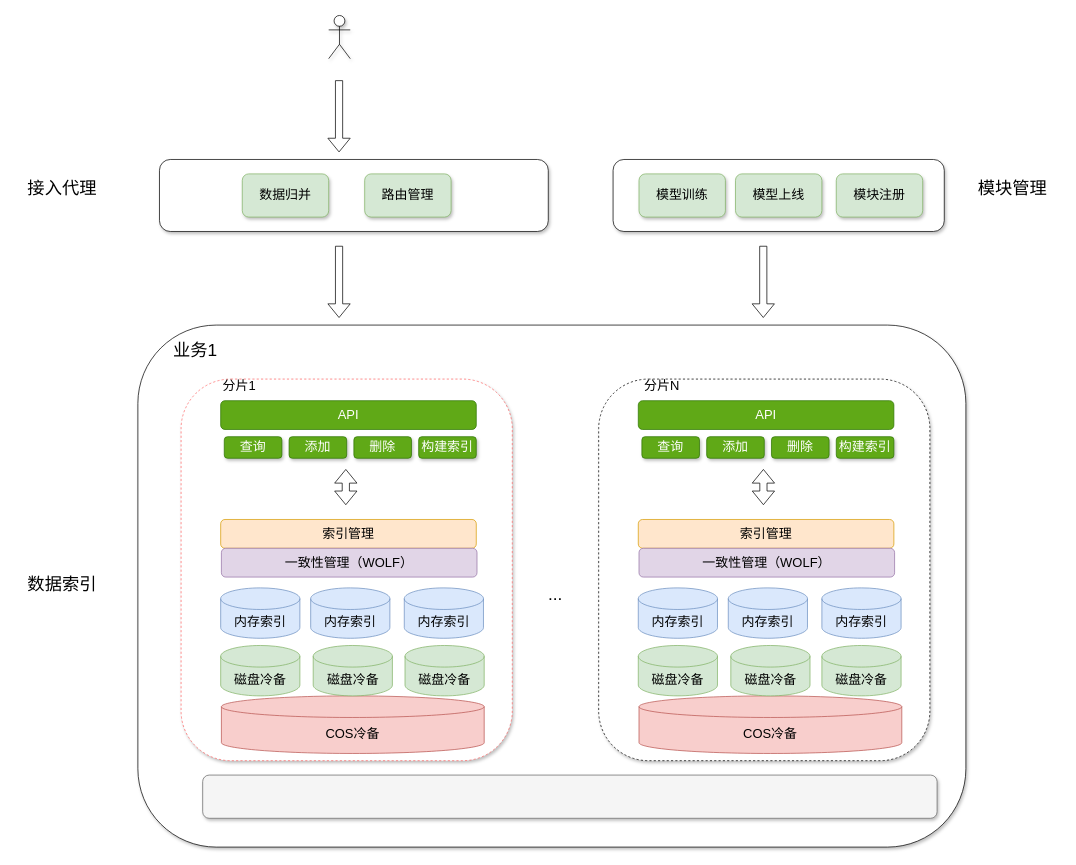
This 1076x865 diagram has some shape labels left out. The centre of each missing label's shape, as x and y in pixels:
Actor: point (340, 38)
基于TAF框架: point (570, 797)
